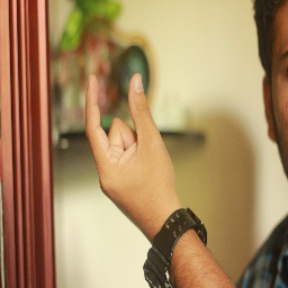U: (84, 70, 172, 210)
